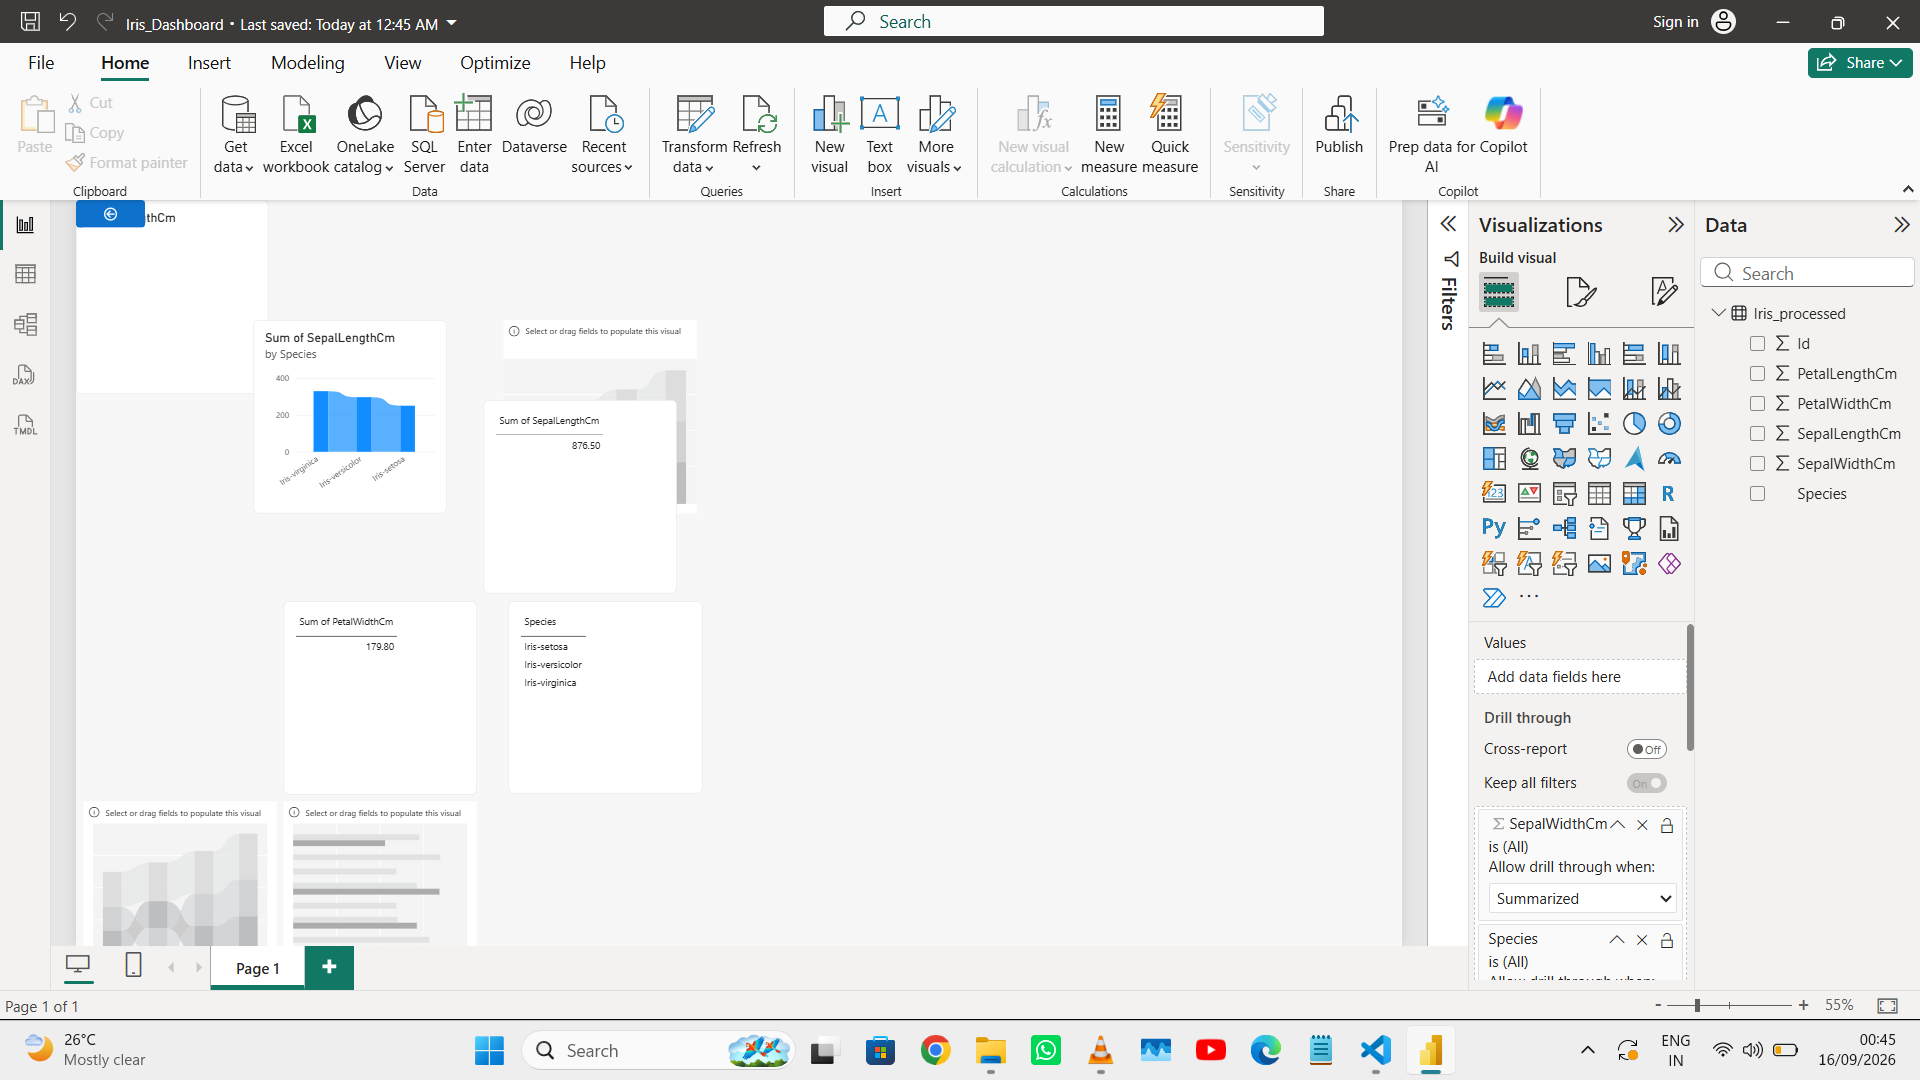

What the dashboard file says about the page in this screenshot:
{"tool":"powerbi","page":{"name":"Page 1","canvas":[1920,1080],"ordinal":0},"visuals":[{"type":"ribbonChart","fields":{"Category":["Iris_processed.SepalLengthCm"]},"box":[1475.8,244.9,277.9,279.9],"z":0},{"type":"ribbonChart","fields":{"Category":["Iris_processed.Species"],"Y":["Sum(Iris_processed.SepalLengthCm)"]},"box":[49.4,150.3,463.1,374.6],"z":1},{"type":"ribbonChart","box":[617.5,175,358.1,333.4],"z":5},{"type":"tableEx","fields":{"Values":["Sum(Iris_processed.PetalWidthCm)"]},"box":[300,580,280,280],"z":6},{"type":"tableEx","fields":{"Values":["Sum(Iris_processed.SepalLengthCm)"]},"box":[1020.9,105,280,280],"z":9},{"type":"actionButton","box":[0,0,100,40],"z":10},{"type":"tableEx","fields":{"Values":["Iris_processed.Species"]},"box":[819.2,580.4,280.5,278.7],"z":11},{"type":"textbox","box":[279,0,258,174],"z":12}]}

Visuals, with their boxes on the page's 1920x1080 design canvas (x1, y1, x2, y2). These are canvas units, not pixel positions in the 1920x1080 screenshot, which may show the page scaled, cropped or inside an application window:
ribbonChart - Iris_processed.SepalLengthCm: bbox=(1476, 245, 1754, 525)
ribbonChart - Iris_processed.Species x Sum(Iris_processed.SepalLengthCm): bbox=(49, 150, 512, 525)
ribbonChart: bbox=(618, 175, 976, 508)
tableEx - Sum(Iris_processed.PetalWidthCm): bbox=(300, 580, 580, 860)
tableEx - Sum(Iris_processed.SepalLengthCm): bbox=(1021, 105, 1301, 385)
actionButton: bbox=(0, 0, 100, 40)
tableEx - Iris_processed.Species: bbox=(819, 580, 1100, 859)
textbox: bbox=(279, 0, 537, 174)
